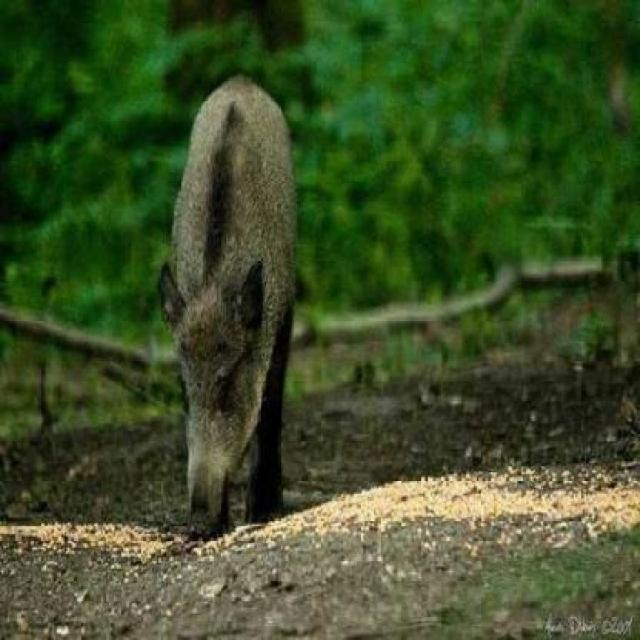pig: (118, 37, 331, 530)
